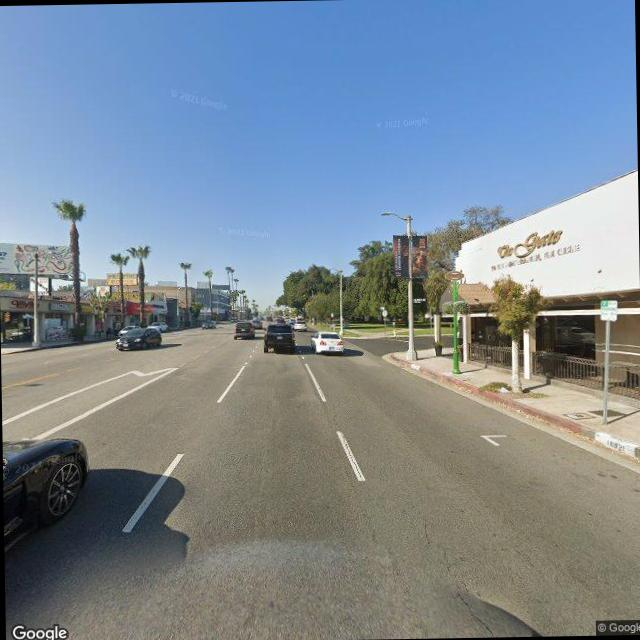pothole: (418, 516, 518, 636)
